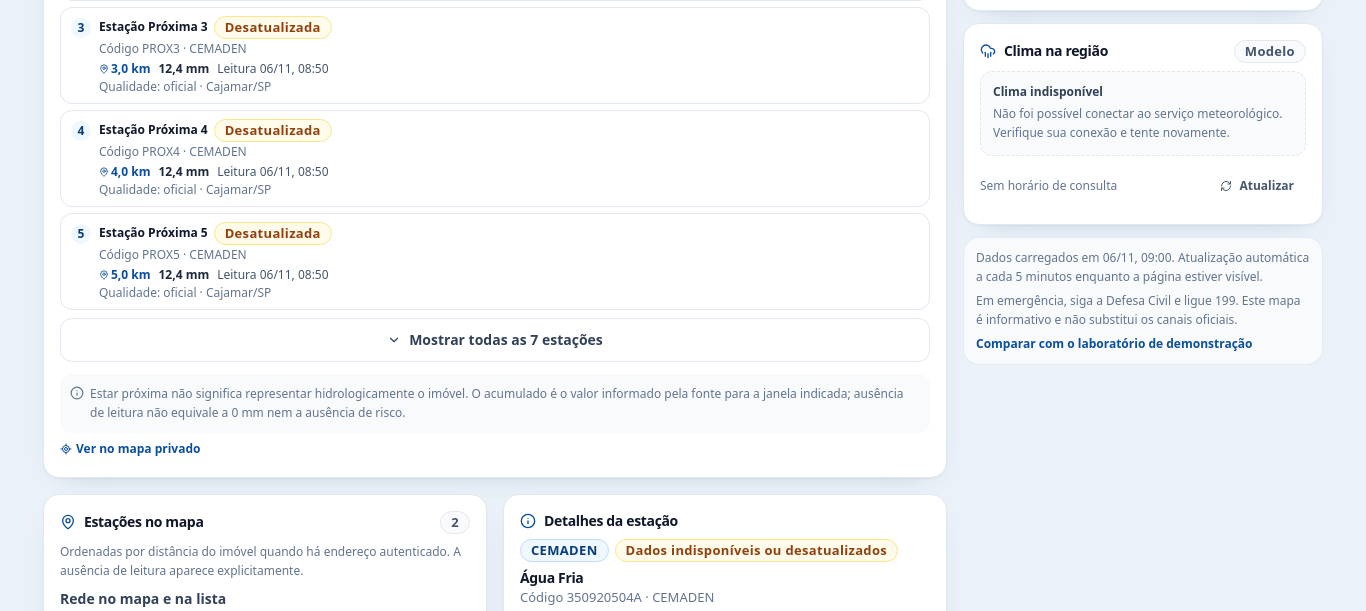
it: MapPage › mostra as cinco estações mais próximas e permite expandir
(page scrolled)
Expected: the text "Estação Próxima 5" is shown, x1=99 y1=225 x2=208 y2=241
Expected: the text "Estação Próxima 6" is not shown
Click the button "Mostrar todas as 7 estações".
click(495, 340)  # box x1=60 y1=318 x2=930 y2=362
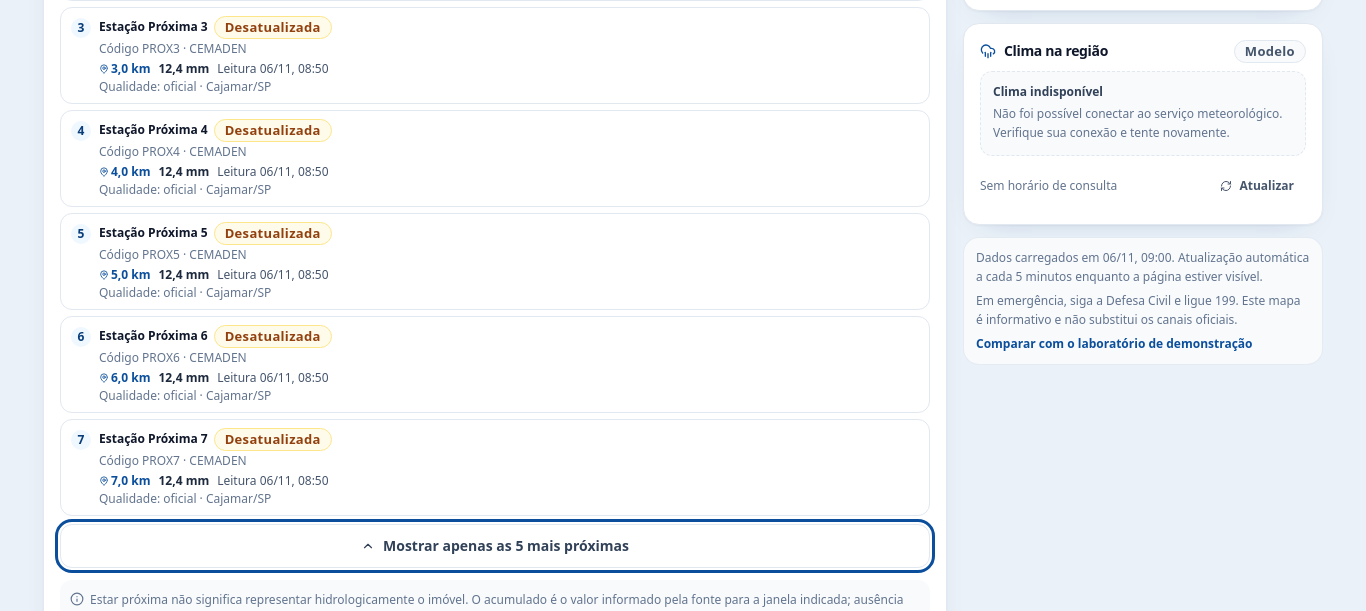
Expected: the text "Estação Próxima 6" is shown, x1=99 y1=328 x2=208 y2=344
Expected: the button "Mostrar apenas as 5 mais próximas" is shown, x1=60 y1=524 x2=930 y2=568
